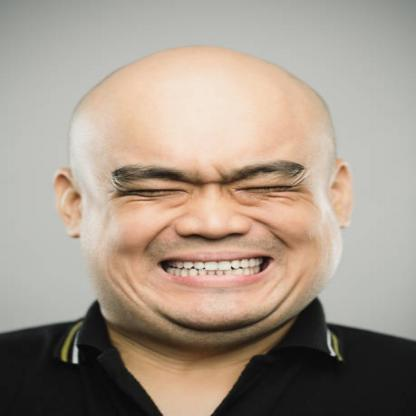pain: (97, 150, 316, 215)
